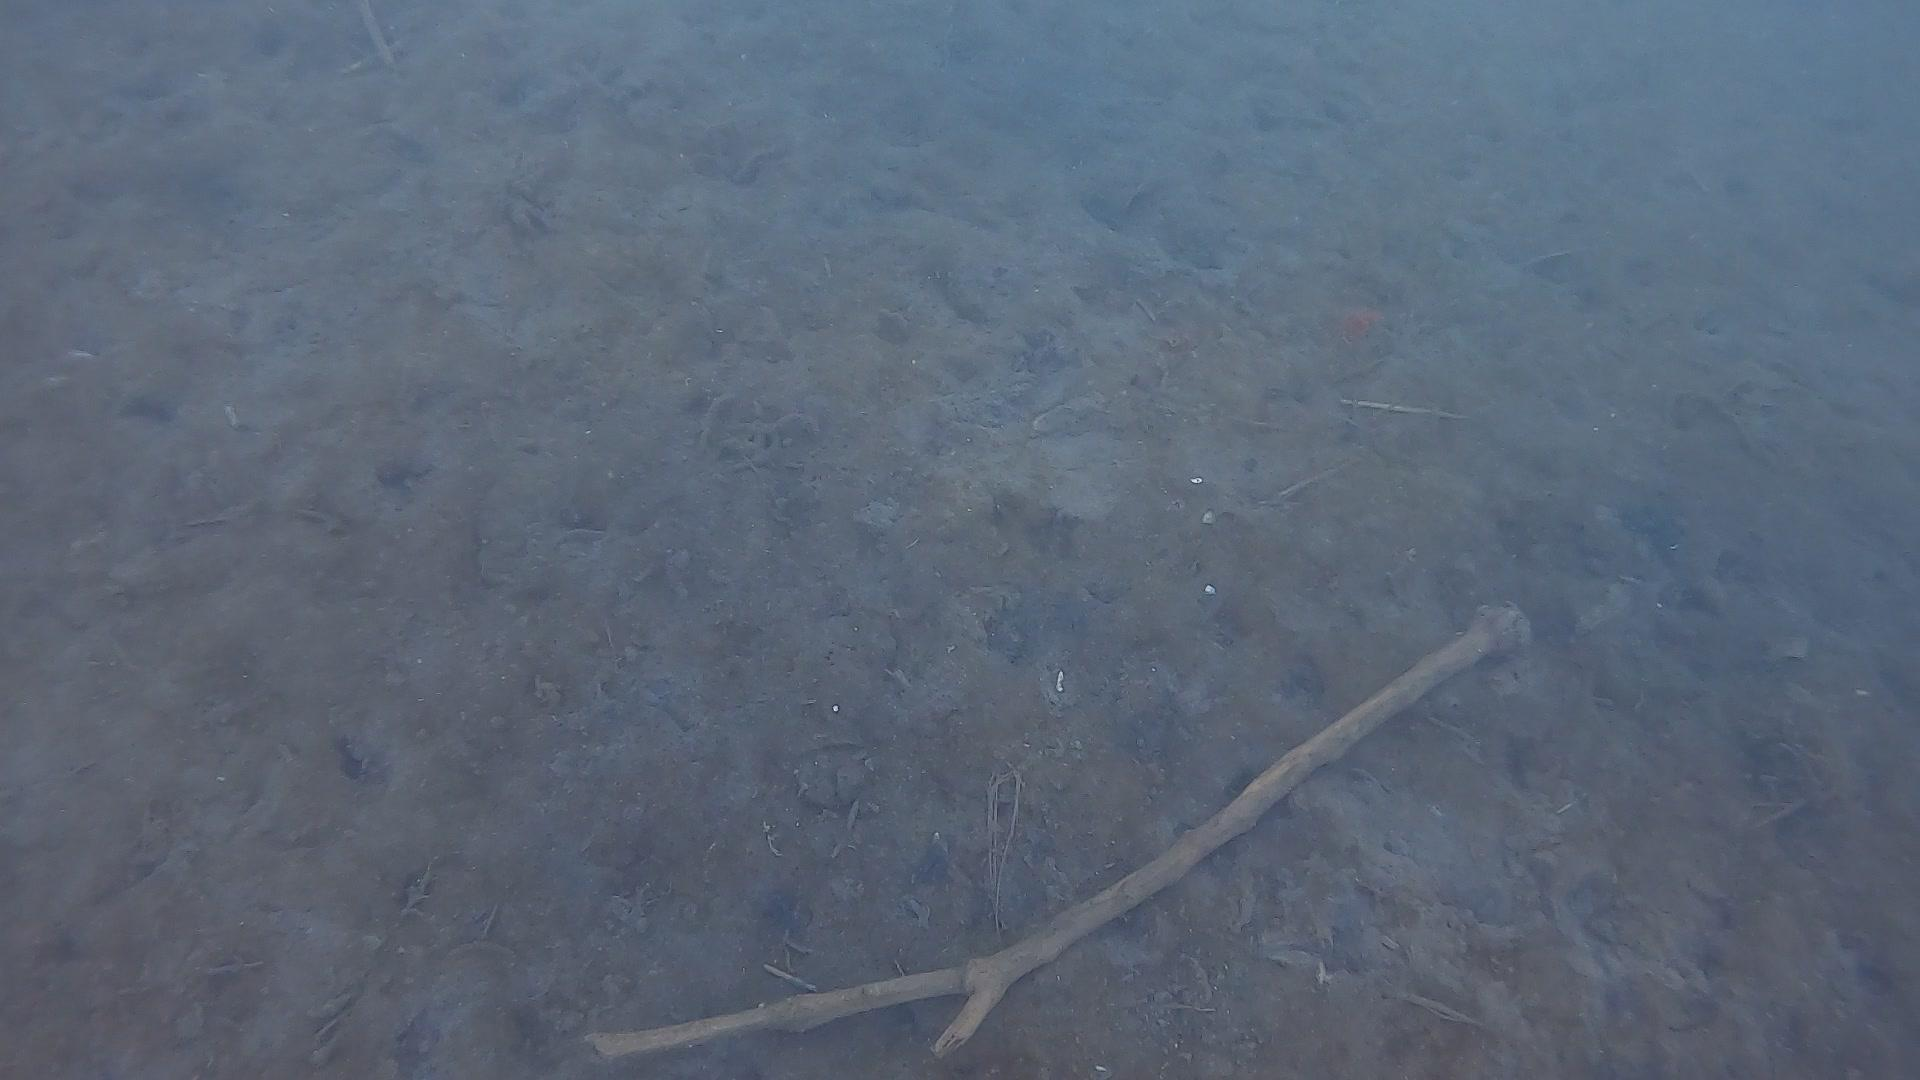wood: (582, 597, 1534, 1062)
